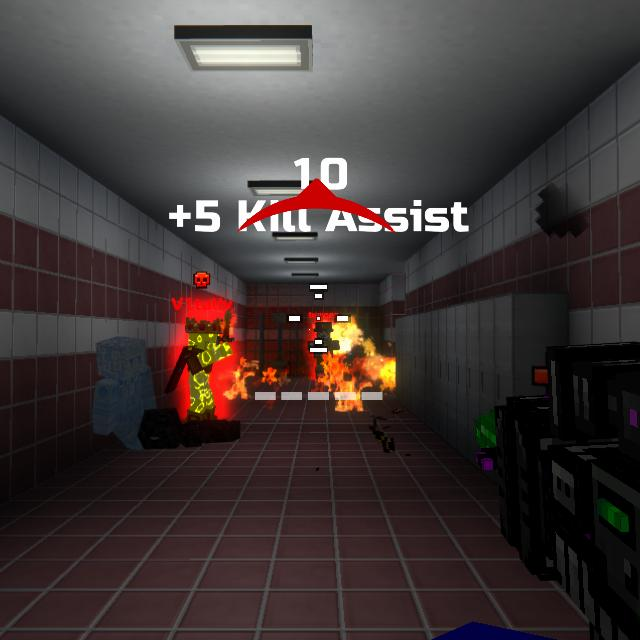Enemy: (183, 318, 232, 424), (307, 323, 341, 381)
